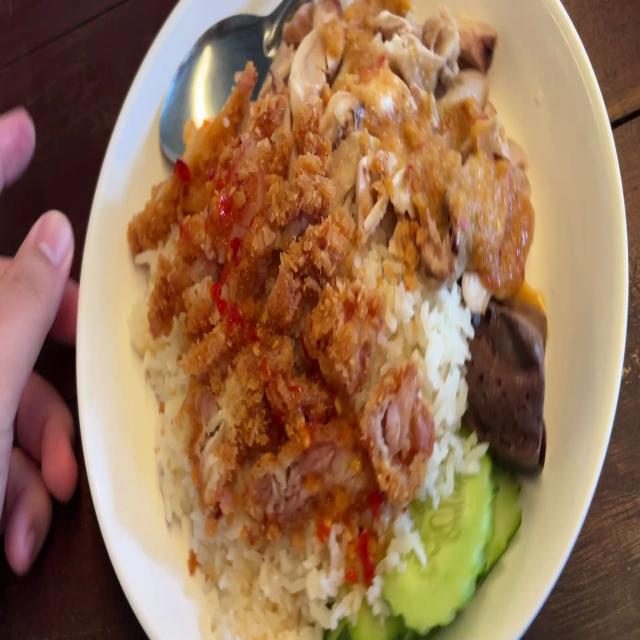boiled_chicken: (294, 2, 530, 256)
boiled_chicken_blood_jelly: (468, 300, 551, 480)
chicken_rice: (130, 6, 540, 640)
cucumber: (363, 428, 517, 633)
fried_chicken: (150, 113, 372, 542)
